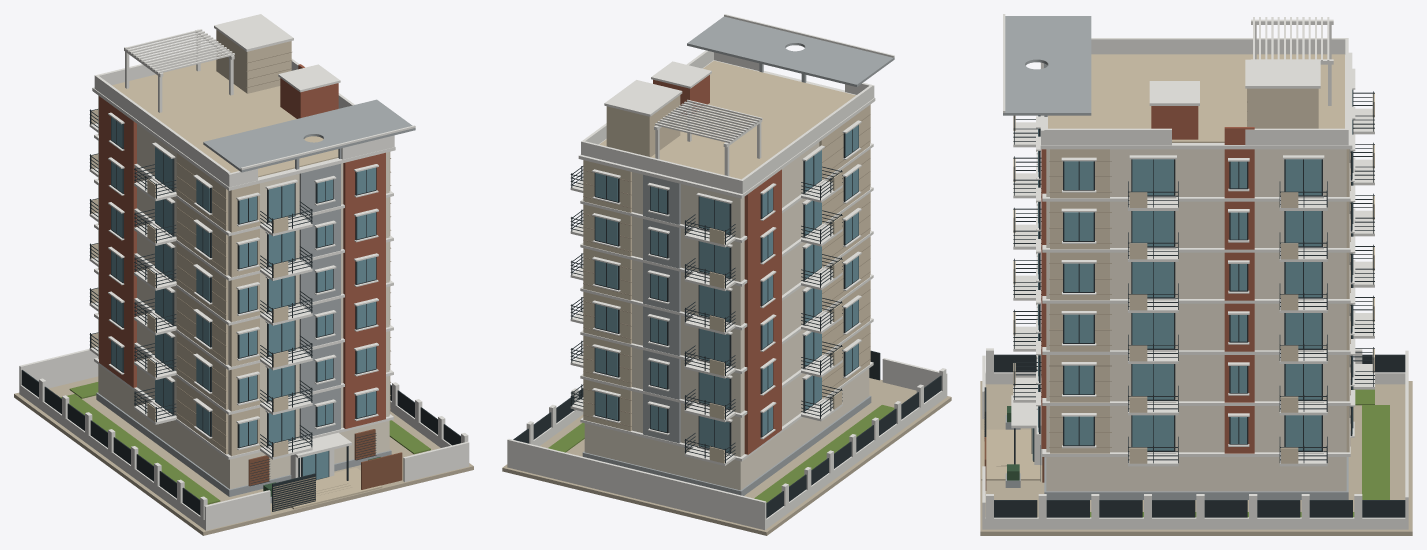
Rendered from residencial-aurora.glb.
3 views of the same model, side by side, from view 1: azimuth 30°, elevation 25°; view 2: azimuth 150°, elevation 25°; view 3: azimuth 270°, elevation 25° (orthographic). The views are drawn at different scales.
Parts seen in each view (by area): view 1: building-plaster-principal, aurora-ivory-left-ivory-panel, aurora-paving-terrace-floor, aurora-brick-front-brick-tower, aurora-brick-left-brick-tower, aurora-concrete-front-grey-recess, aurora-concrete-front-canopy, site-plaza-lote, aurora-ivory-front-ivory-pier, aurora-ivory-stair-house, aurora-white-parapet-west, aurora-white-boundary-base--9250 (+34 smaller); view 2: building-plaster-principal, aurora-paving-terrace-floor, aurora-ivory-rear-ivory-panel, aurora-white-boundary-rear, aurora-brick-left-brick-tower, aurora-ivory-left-ivory-panel, aurora-concrete-front-canopy, aurora-concrete-rear-grey-recess, site-plaza-lote, aurora-ivory-stair-house, aurora-white-parapet-rear, aurora-white-parapet-west (+27 smaller); view 3: building-plaster-principal, aurora-paving-terrace-floor, aurora-ivory-side-ivory-panel, site-plaza-lote, aurora-concrete-front-canopy, aurora-brick-right-brick-ribbon, aurora-white-boundary-base-9070, aurora-white-parapet-west, aurora-ivory-stair-house, aurora-concrete-ground-skirting, aurora-lawn-rear-lawn, aurora-white-parapet-east-a (+57 smaller).
Boxes of the visible parts, x1,y1,x2,y2 form: building-plaster-principal: (98, 95, 389, 489); aurora-ivory-left-ivory-panel: (176, 153, 228, 454); aurora-paving-terrace-floor: (112, 60, 338, 177); aurora-brick-front-brick-tower: (343, 152, 385, 428); aurora-brick-left-brick-tower: (99, 96, 136, 387); aurora-concrete-front-grey-recess: (299, 163, 340, 438); aurora-concrete-front-canopy: (203, 99, 415, 172); site-plaza-lote: (14, 376, 473, 535); aurora-ivory-front-ivory-pier: (230, 183, 259, 456); aurora-ivory-stair-house: (216, 30, 291, 93); aurora-white-parapet-west: (94, 75, 230, 185); aurora-white-boundary-base--9250: (19, 385, 208, 530); building-plaster-principal: (584, 142, 869, 490); aurora-paving-terrace-floor: (599, 60, 855, 179); aurora-ivory-rear-ivory-panel: (583, 160, 631, 431); aurora-white-boundary-rear: (507, 439, 766, 529); aurora-brick-left-brick-tower: (744, 169, 781, 454); aurora-ivory-left-ivory-panel: (819, 105, 869, 398); aurora-concrete-front-canopy: (687, 16, 894, 86); aurora-concrete-rear-grey-recess: (643, 174, 680, 443); site-plaza-lote: (502, 378, 951, 535); aurora-ivory-stair-house: (606, 95, 680, 156); aurora-white-parapet-rear: (581, 141, 743, 193); aurora-white-parapet-west: (740, 85, 872, 193); building-plaster-principal: (1046, 149, 1346, 491); aurora-paving-terrace-floor: (1048, 54, 1344, 142); aurora-ivory-side-ivory-panel: (1050, 149, 1109, 453); site-plaza-lote: (980, 381, 1412, 535); aurora-concrete-front-canopy: (1003, 16, 1091, 115); aurora-brick-right-brick-ribbon: (1224, 127, 1254, 453); aurora-white-boundary-base-9070: (982, 517, 1408, 529); aurora-white-parapet-west: (1091, 38, 1348, 54); aurora-ivory-stair-house: (1247, 88, 1318, 128); aurora-concrete-ground-skirting: (1044, 457, 1348, 499); aurora-lawn-rear-lawn: (1362, 405, 1389, 499); aurora-white-parapet-east-a: (1044, 128, 1171, 145).
Bounding box in the file's own units: 19 × 24.33 × 23.
